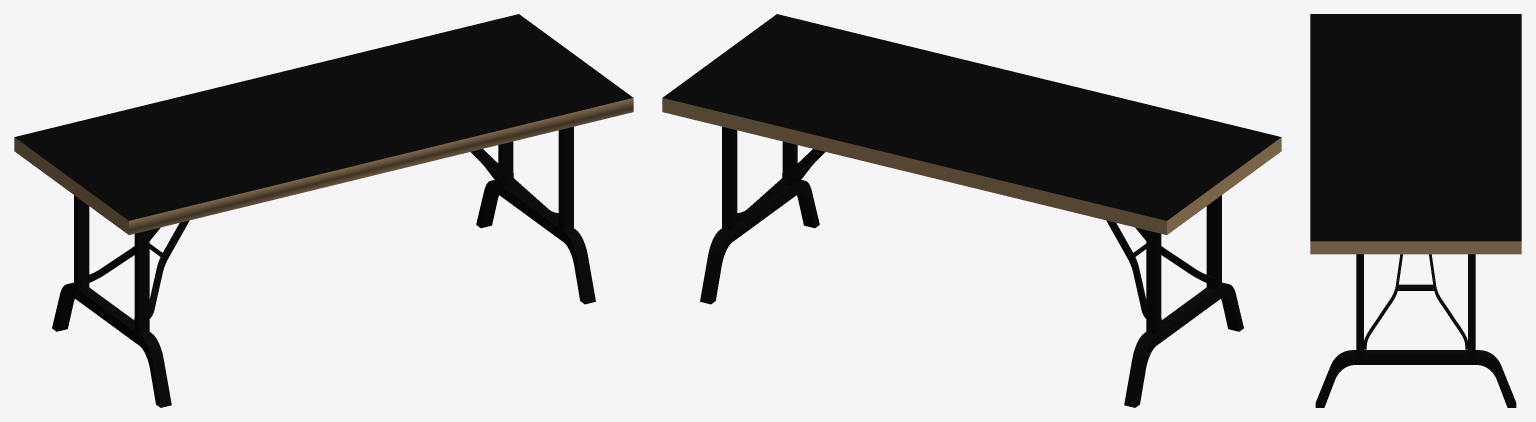
Rendered from desk2_001.fbx.
The picture shows the model from 3 angles, left to right: view 1: azimuth 30°, elevation 25°; view 2: azimuth 150°, elevation 25°; view 3: azimuth 270°, elevation 25°; orthographic projection. The views are drawn at different scales.
Visible parts, largest first — view 1: desk2_001; view 2: desk2_001; view 3: desk2_001.
Boxes of the visible parts, <box> form: desk2_001: <box>14,14,633,407</box>; desk2_001: <box>662,14,1281,407</box>; desk2_001: <box>1310,14,1521,407</box>.
Bounding box in the file's own units: 221 × 82.78 × 86.98.
